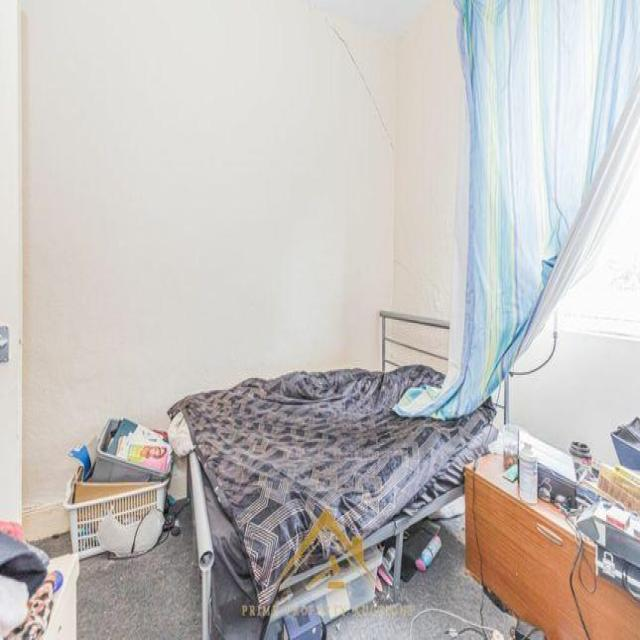Wall: (23, 1, 394, 536), (334, 0, 464, 318), (326, 529, 516, 639), (511, 330, 640, 464), (79, 506, 200, 639), (307, 1, 428, 38), (386, 322, 447, 355), (411, 611, 481, 639), (386, 344, 447, 372), (519, 323, 549, 369), (413, 529, 430, 548)
